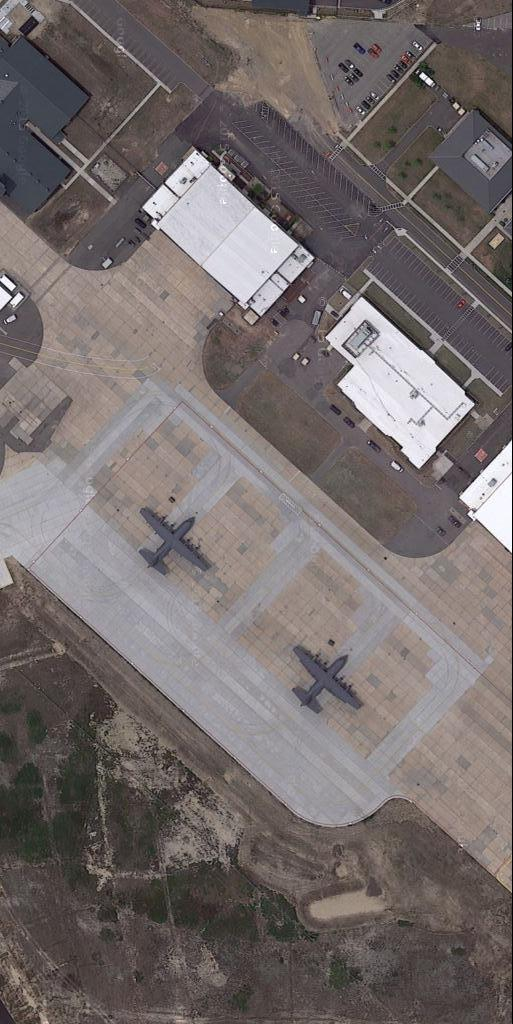C-130: (138, 503, 209, 578), (292, 642, 361, 719)
